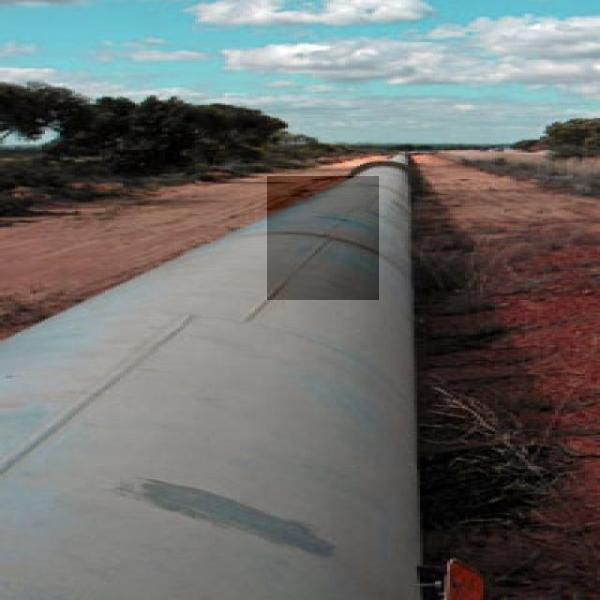no leak: (267, 176, 379, 300)
